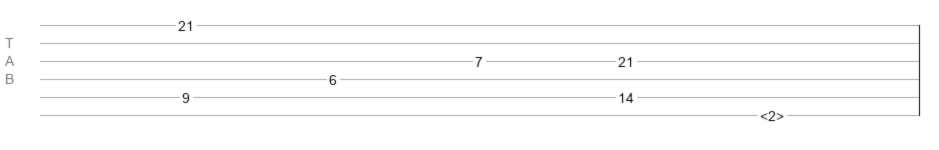14: (618, 90, 634, 100)
21: (178, 18, 194, 28), (618, 54, 634, 64)
6: (329, 72, 337, 82)
7: (475, 54, 483, 64)
9: (182, 90, 190, 100)
harmonic: (760, 108, 784, 118)
